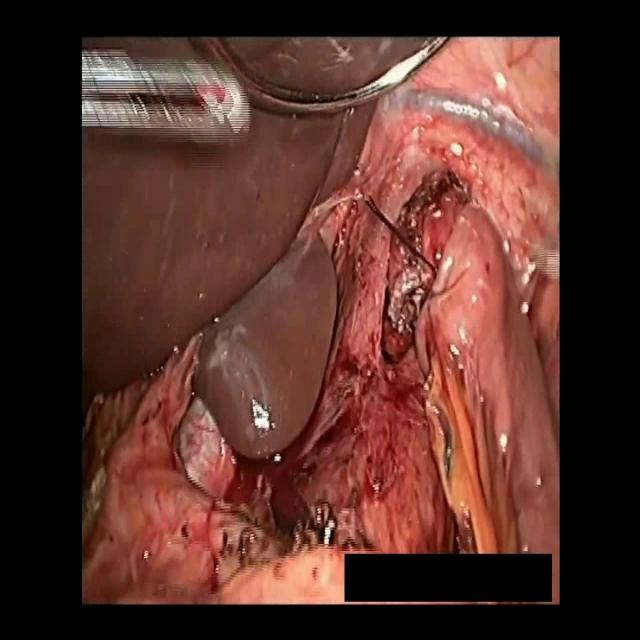surgical-area: (80, 36, 560, 604), (220, 35, 442, 93)
surgical-tool: (186, 36, 452, 123), (80, 52, 252, 144)
